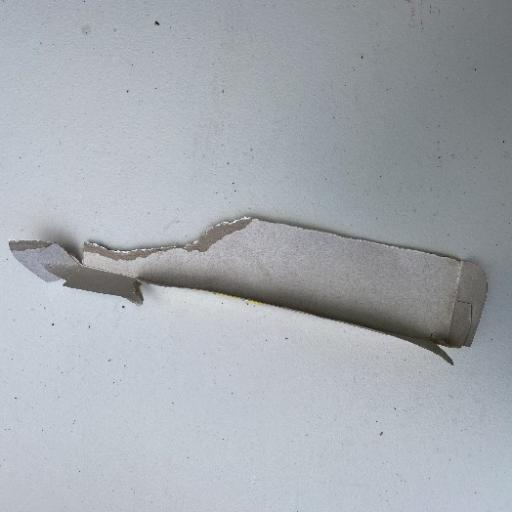Cardboard: (8, 213, 489, 355)
